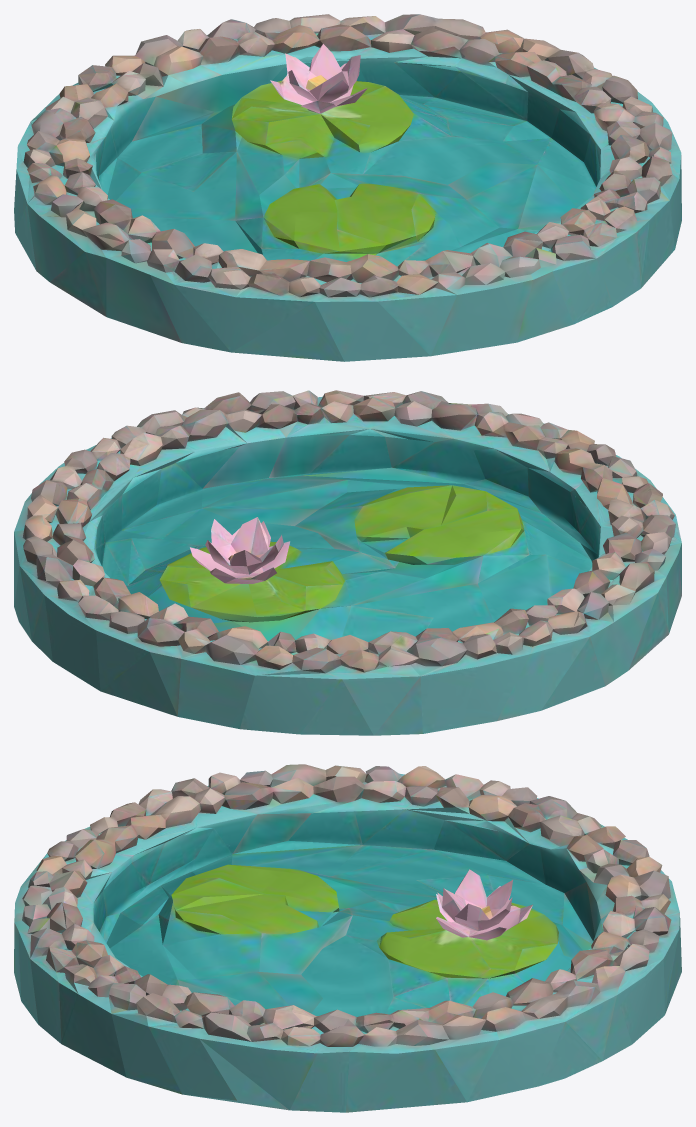
File: pond.glb
3 views of the same model, one above another, from view 1: azimuth 30°, elevation 25°; view 2: azimuth 150°, elevation 25°; view 3: azimuth 270°, elevation 25° (orthographic).
Parts seen in each view (by area): view 1: Mesh_0; view 2: Mesh_0; view 3: Mesh_0.
Part boxes in pixels (left/top/right/bottom): Mesh_0: left=14, top=14, right=681, bottom=361; Mesh_0: left=14, top=390, right=681, bottom=735; Mesh_0: left=14, top=764, right=681, bottom=1112.
Size of the model in its own units: 1.9 by 0.3312 by 1.9.
1 material, 1 textured.
